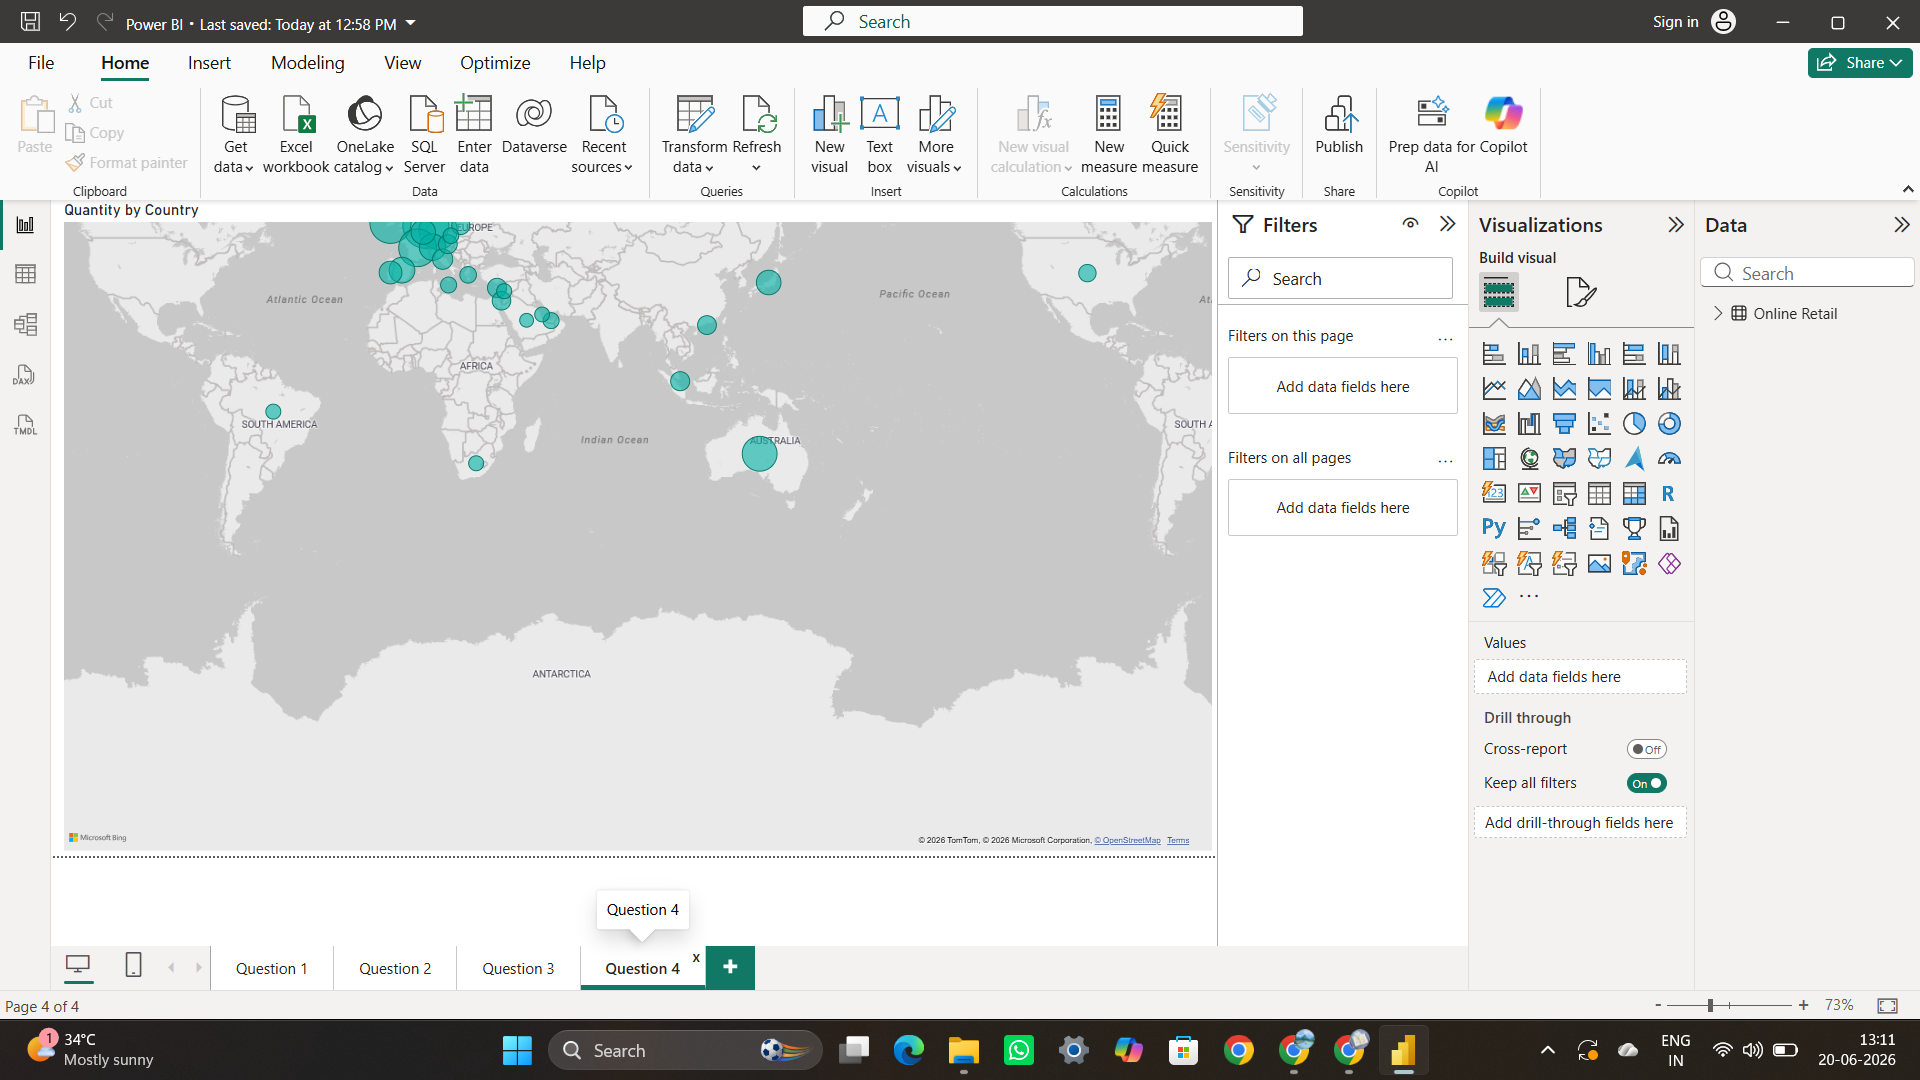

Layout of this report page (visuals, bound fields, positions):
{"tool":"powerbi","page":{"name":"Question 4","canvas":[1280,720],"ordinal":3},"visuals":[{"type":"map","fields":{"Category":["Online Retail.Country"],"Size":["Sum(Online Retail.Quantity)"]},"box":[9.7,0,1270.3,719.8],"z":0}]}

Visuals, with their boxes on the page's 1280x720 design canvas (x1, y1, x2, y2). These are canvas units, not pixel positions in the 1920x1080 screenshot, which may show the page scaled, cropped or inside an application window:
map - Online Retail.Country x Sum(Online Retail.Quantity): region(10, 0, 1280, 720)
